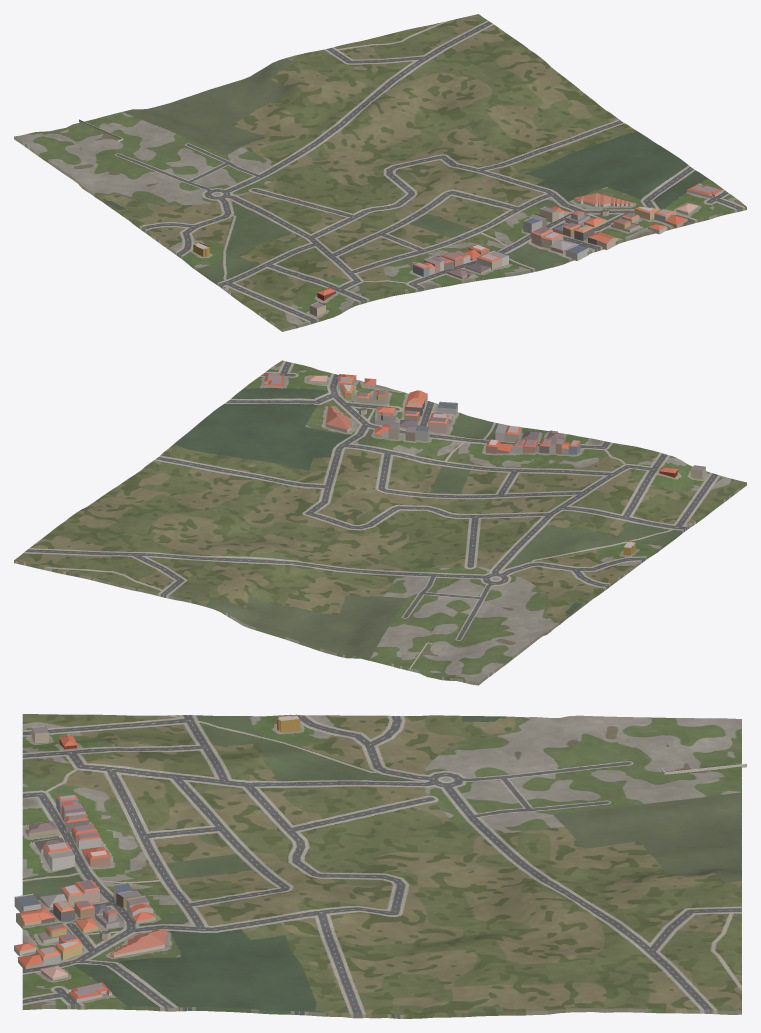
3 views of the same model, one above another, from view 1: azimuth 30°, elevation 25°; view 2: azimuth 150°, elevation 25°; view 3: azimuth 270°, elevation 25° (orthographic). The views are drawn at different scales.
Parts seen in each view (by area): view 1: terrain, buildings; view 2: terrain, buildings; view 3: terrain, buildings.
Boxes of the visible parts, x1,y1,x2,y2 form: terrain: (14,14,746,331); buildings: (79,119,722,316); terrain: (14,360,746,685); buildings: (263,373,705,670); terrain: (22,714,741,1018); buildings: (14,714,746,1002).
Bounding box in the file's own units: 500 × 27.3 × 510.
Materials: 2 (1 with a texture image).
